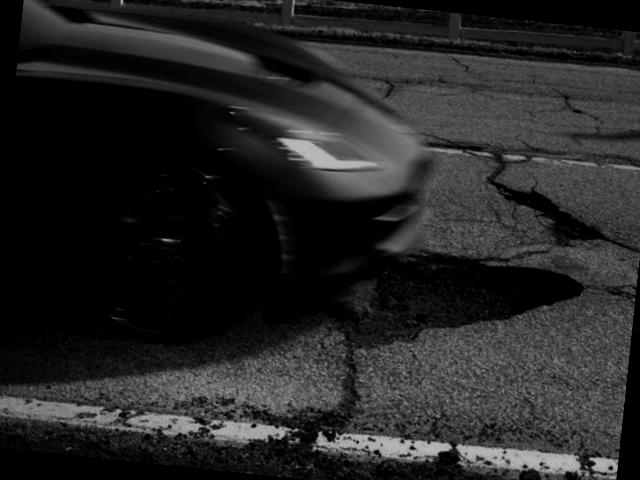Pothole: (308, 222, 599, 373), (474, 132, 618, 274)
